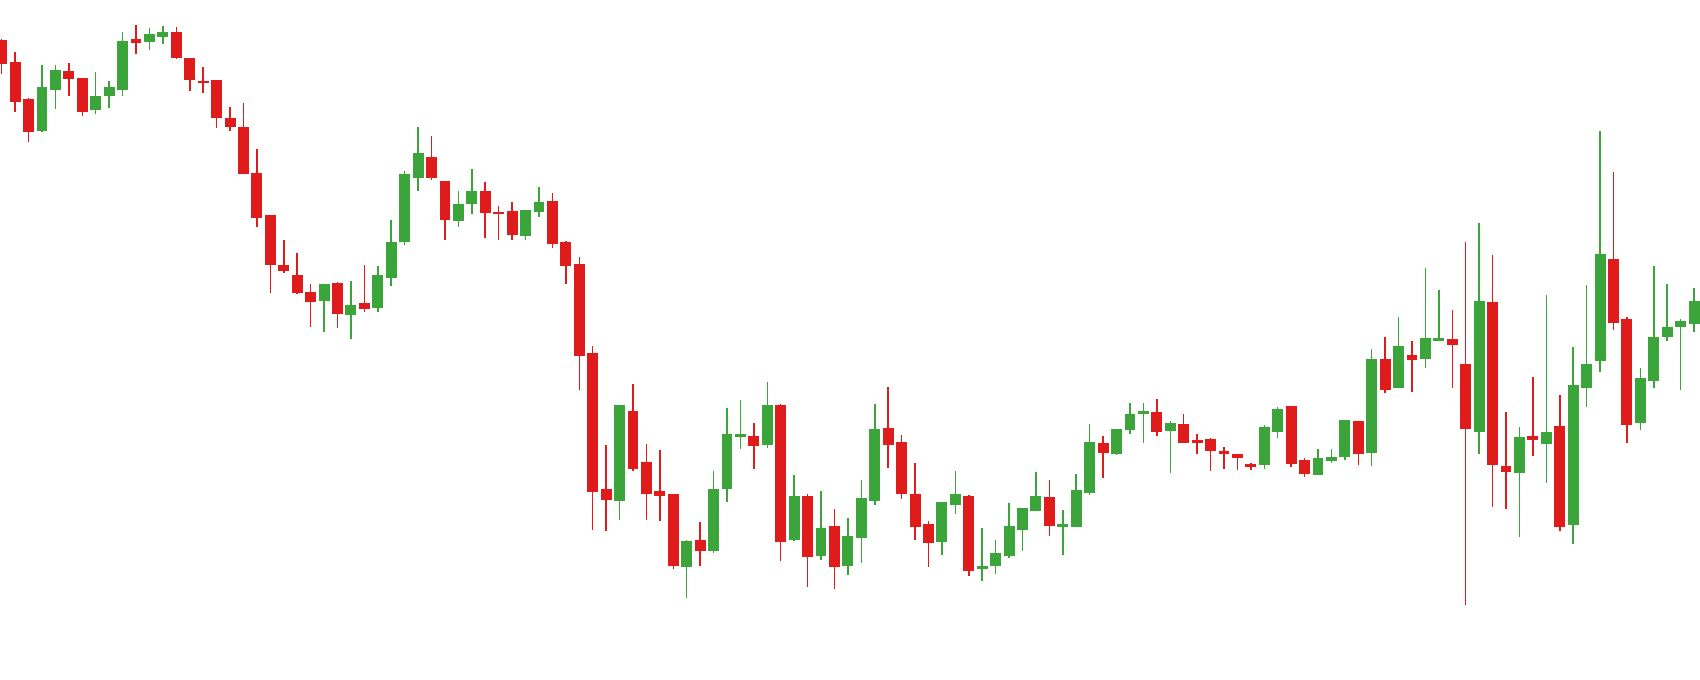buy: (601, 444, 721, 599)
sell: (1470, 134, 1620, 386)
